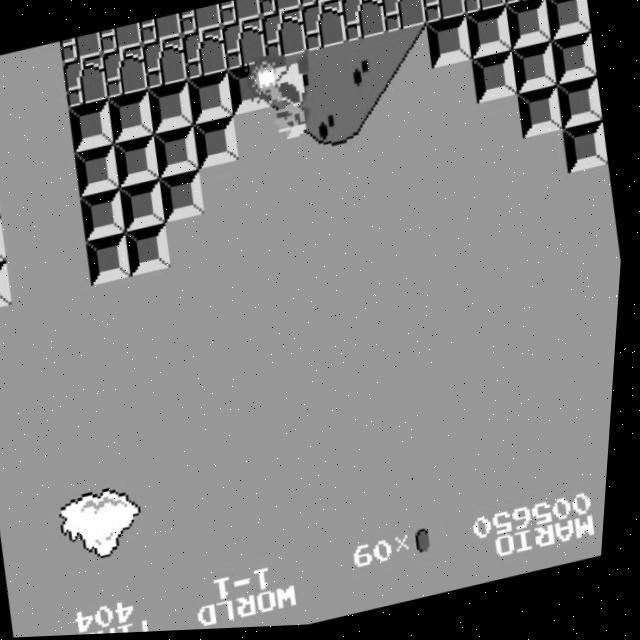17- undestructible_block: (259, 9, 311, 64), (219, 18, 271, 73), (179, 27, 231, 82), (140, 36, 192, 91), (100, 46, 152, 100), (299, 0, 350, 55), (61, 54, 112, 109), (338, 0, 390, 46), (377, 0, 429, 37), (177, 6, 224, 37), (138, 15, 184, 46), (98, 24, 144, 55), (59, 33, 105, 64), (418, 0, 469, 27), (217, 0, 264, 28), (457, 0, 508, 19), (257, 0, 303, 19), (497, 0, 547, 10), (296, 0, 342, 10), (537, 0, 586, 1), (336, 0, 382, 1)
4- fire_mario: (263, 50, 328, 153)
9- hard_block: (503, 0, 555, 55), (464, 9, 516, 64), (424, 18, 476, 73), (226, 63, 278, 118), (186, 72, 238, 127), (146, 81, 198, 136), (113, 134, 165, 189), (73, 143, 125, 198), (67, 99, 119, 154), (516, 90, 568, 144), (510, 45, 562, 99), (470, 54, 522, 108), (192, 117, 244, 171), (159, 171, 211, 225), (153, 126, 205, 180), (86, 233, 138, 287), (126, 224, 177, 279), (107, 90, 158, 145), (80, 189, 131, 243), (563, 125, 613, 180), (556, 82, 607, 135), (120, 180, 171, 233), (550, 36, 600, 90), (544, 0, 594, 46), (0, 260, 19, 314), (0, 216, 13, 269), (0, 171, 6, 224)
